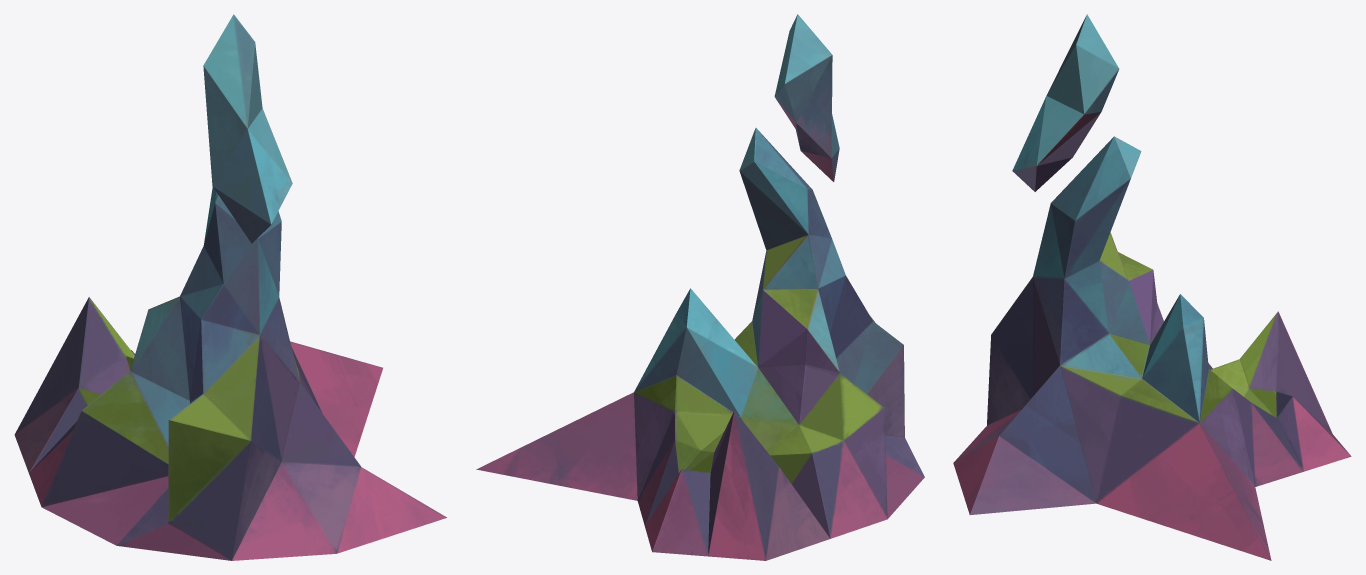
Rendered from environ_rock_var2.fbx.
3 renders of one model, left to right at view 1: azimuth 30°, elevation 25°; view 2: azimuth 150°, elevation 25°; view 3: azimuth 270°, elevation 25°, orthographic. The views are drawn at different scales.
Parts seen in each view (by area): view 1: environ_mtn_var2, floating_rock2; view 2: environ_mtn_var2, floating_rock2; view 3: environ_mtn_var2, floating_rock2.
Boxes of the visible parts, x1,y1,x2,y2 form: environ_mtn_var2: (14,187,446,560); floating_rock2: (203,14,292,243); environ_mtn_var2: (476,127,924,560); floating_rock2: (774,14,839,181); environ_mtn_var2: (953,136,1351,560); floating_rock2: (1012,14,1119,191).
Bounding box in the file's own units: 0.0913 × 0.1074 × 0.0888.
